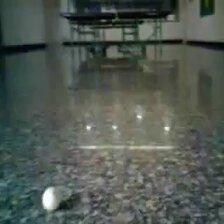w: (42, 186, 60, 210)
